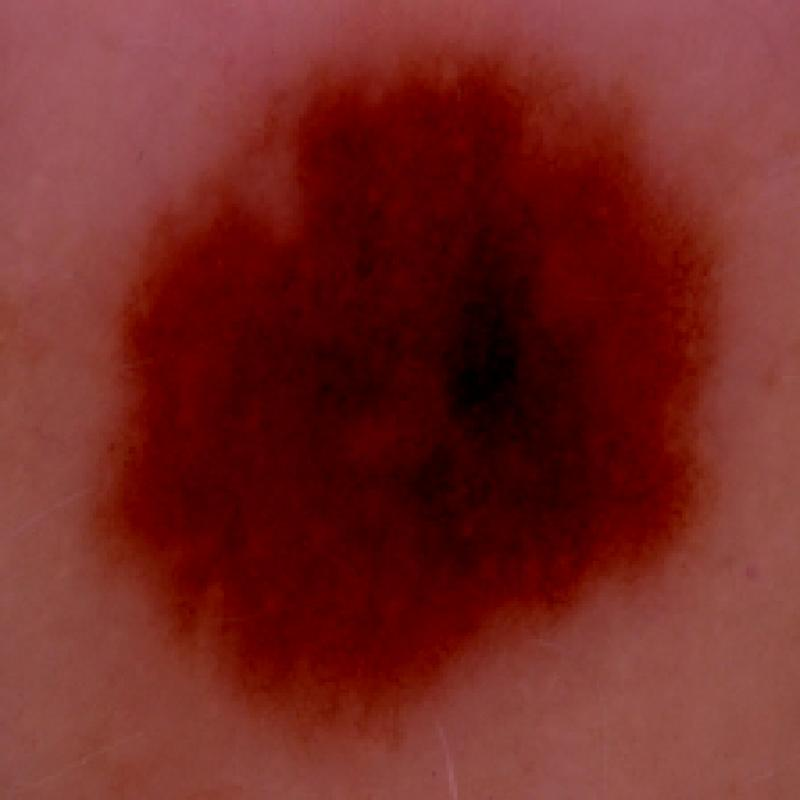benign: (66, 29, 740, 734)
